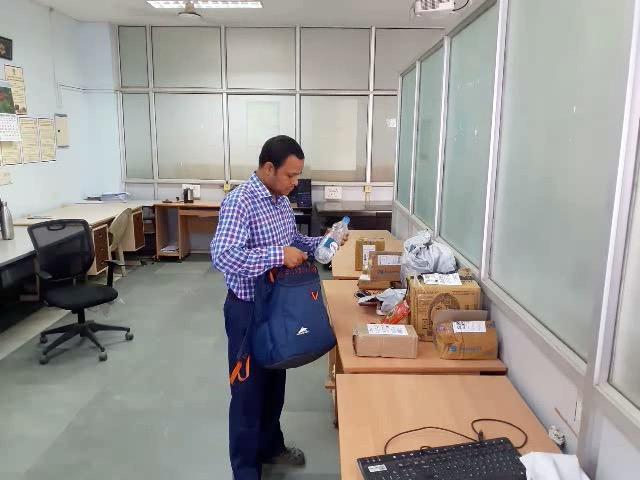shoplifting: (204, 207, 369, 386)
